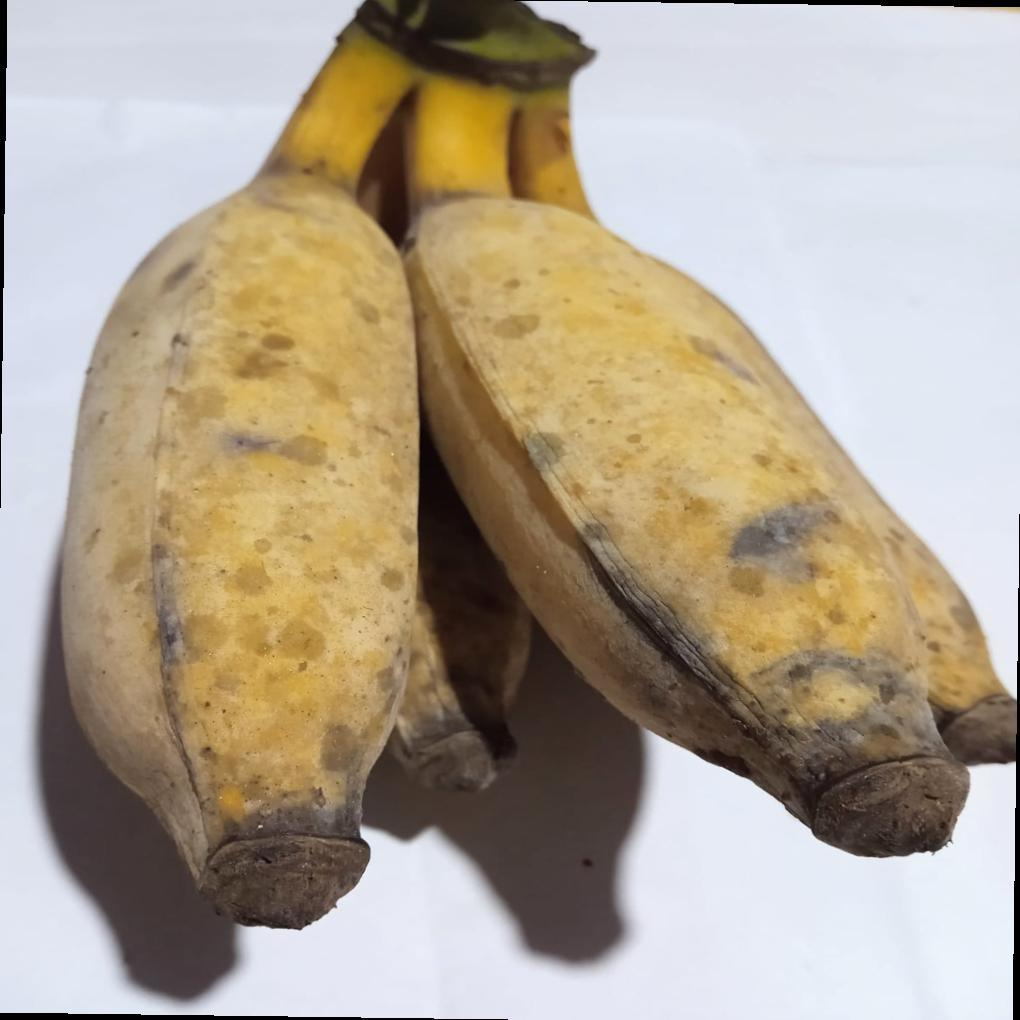Banana Ripe: (385, 0, 1016, 920), (45, 47, 447, 977)
